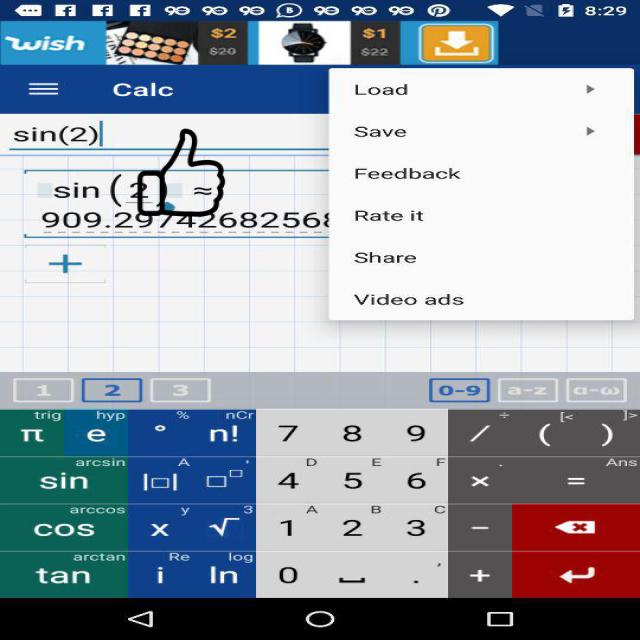privacy zuckering: (136, 128, 226, 216)
